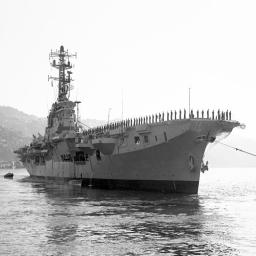Portanaves: (11, 38, 244, 195)
